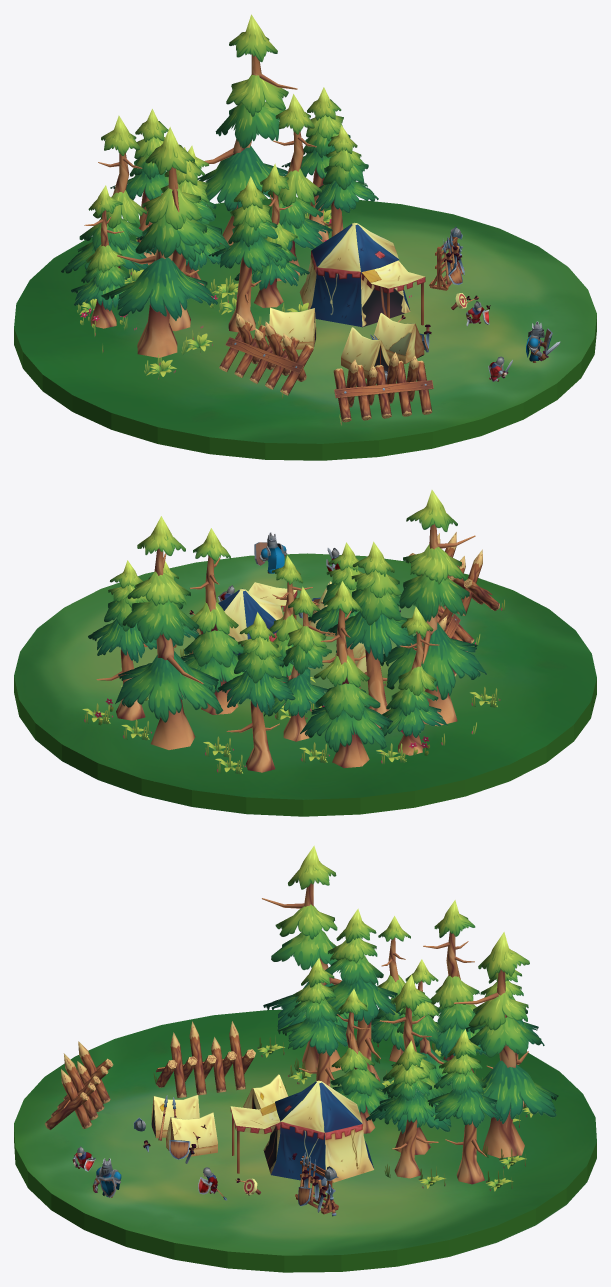
3 views of the same model, one above another, from view 1: azimuth 30°, elevation 25°; view 2: azimuth 150°, elevation 25°; view 3: azimuth 270°, elevation 25° (orthographic).
Parts seen in each view (by area): view 1: Cylinder.flat, PineTree001, bigg-tent, PineTree001.001, PineTree002.001, barricade.002, PineTree003.000, PineTree003.002, barricade, PineTree003.003, PineTree002.000, PineTree003.001 (+8 smaller); view 2: Cylinder.flat, PineTree001.001, PineTree001, PineTree003.000, PineTree002.002, PineTree002.003, PineTree003.002, PineTree001.003, PineTree003.003, PineTree002.004, bigg-tent, PineTree002.001 (+4 smaller); view 3: Cylinder.flat, bigg-tent, PineTree001.001, PineTree001, PineTree002.002, PineTree002.004, PineTree002.001, PineTree003.000, PineTree002.000, barricade, PineTree003.001, PineTree003.002 (+9 smaller).
Boxes of the visible parts, left/top/right/bottom form: Cylinder.flat: left=14, top=198, right=596, bottom=460; PineTree001: left=101, top=127, right=217, bottom=357; bigg-tent: left=299, top=222, right=425, bottom=327; PineTree001.001: left=197, top=14, right=297, bottom=245; PineTree002.001: left=208, top=176, right=289, bottom=332; barricade.002: left=333, top=352, right=433, bottom=422; PineTree003.000: left=61, top=115, right=155, bottom=301; PineTree003.002: left=267, top=94, right=332, bottom=281; barricade: left=219, top=313, right=313, bottom=395; PineTree003.003: left=71, top=185, right=130, bottom=328; PineTree002.000: left=313, top=125, right=378, bottom=236; PineTree003.001: left=234, top=163, right=309, bottom=307; Cylinder.flat: left=14, top=553, right=596, bottom=816; PineTree001.001: left=115, top=516, right=223, bottom=749; PineTree001: left=379, top=490, right=486, bottom=726; PineTree003.000: left=300, top=581, right=393, bottom=768; PineTree002.002: left=328, top=541, right=415, bottom=729; PineTree002.003: left=217, top=612, right=295, bottom=772; PineTree003.002: left=180, top=528, right=246, bottom=714; PineTree001.003: left=264, top=586, right=335, bottom=741; PineTree003.003: left=380, top=606, right=447, bottom=755; PineTree002.004: left=88, top=560, right=156, bottom=720; bigg-tent: left=189, top=582, right=297, bottom=671; PineTree002.001: left=308, top=542, right=365, bottom=688; Cylinder.flat: left=14, top=1009, right=596, bottom=1272; bigg-tent: left=230, top=1080, right=374, bottom=1184; PineTree001.001: left=453, top=932, right=558, bottom=1158; PineTree001: left=262, top=845, right=376, bottom=1072; PineTree002.002: left=325, top=908, right=401, bottom=1081; PineTree002.004: left=427, top=1029, right=502, bottom=1184; PineTree002.001: left=278, top=958, right=347, bottom=1086; PineTree003.000: left=415, top=900, right=486, bottom=1072; PineTree002.000: left=377, top=1040, right=439, bottom=1178; barricade: left=156, top=1021, right=255, bottom=1097; PineTree003.001: left=330, top=988, right=393, bottom=1133; PineTree003.002: left=366, top=974, right=456, bottom=1154.
Size of the model in its own units: 80.69 by 36.65 by 80.69.
